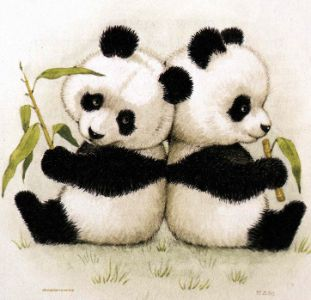bear: (16, 26, 177, 244), (173, 26, 305, 253)
